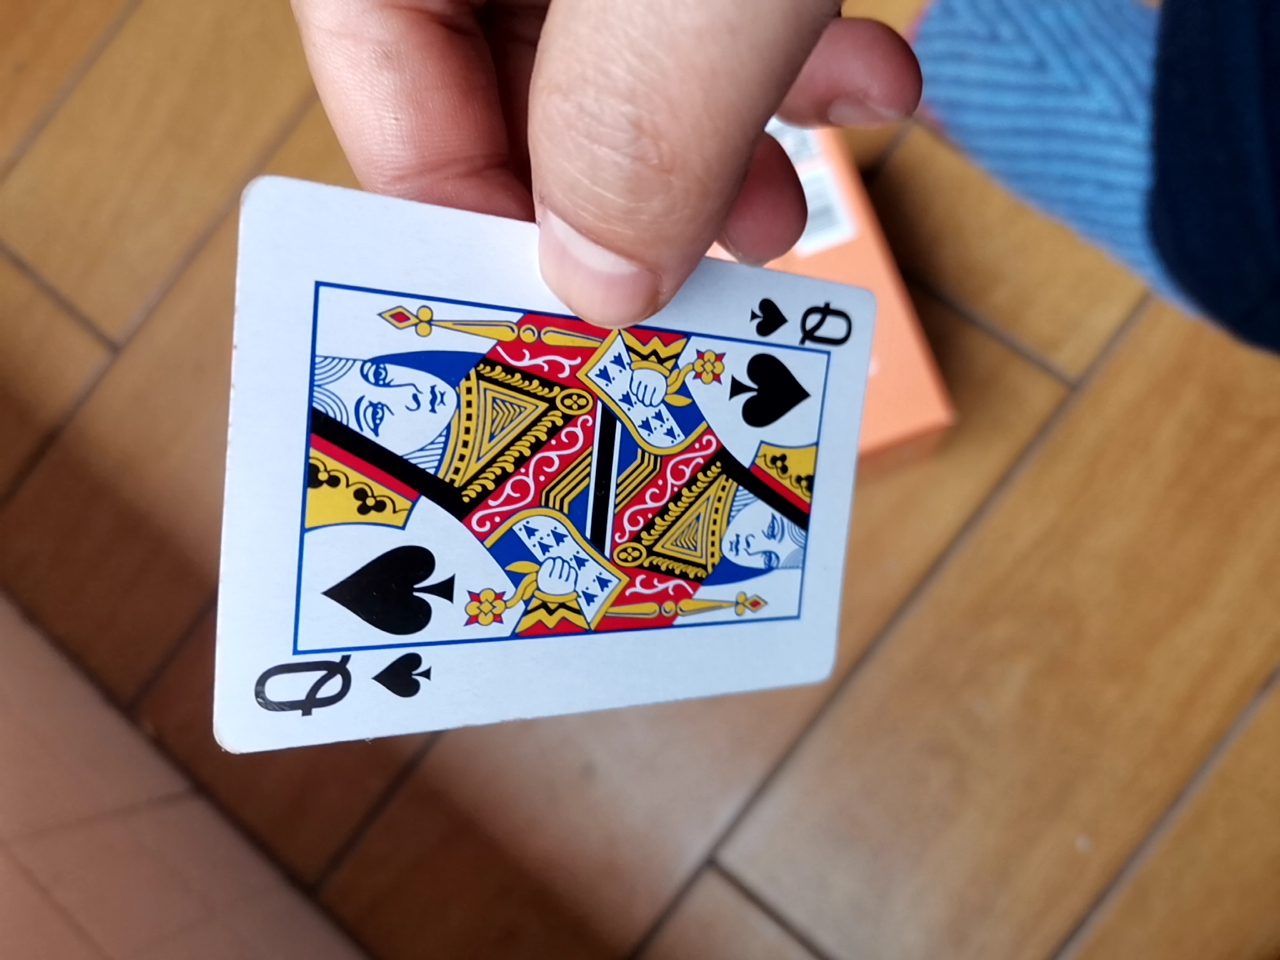ht q: (184, 173, 877, 772)
